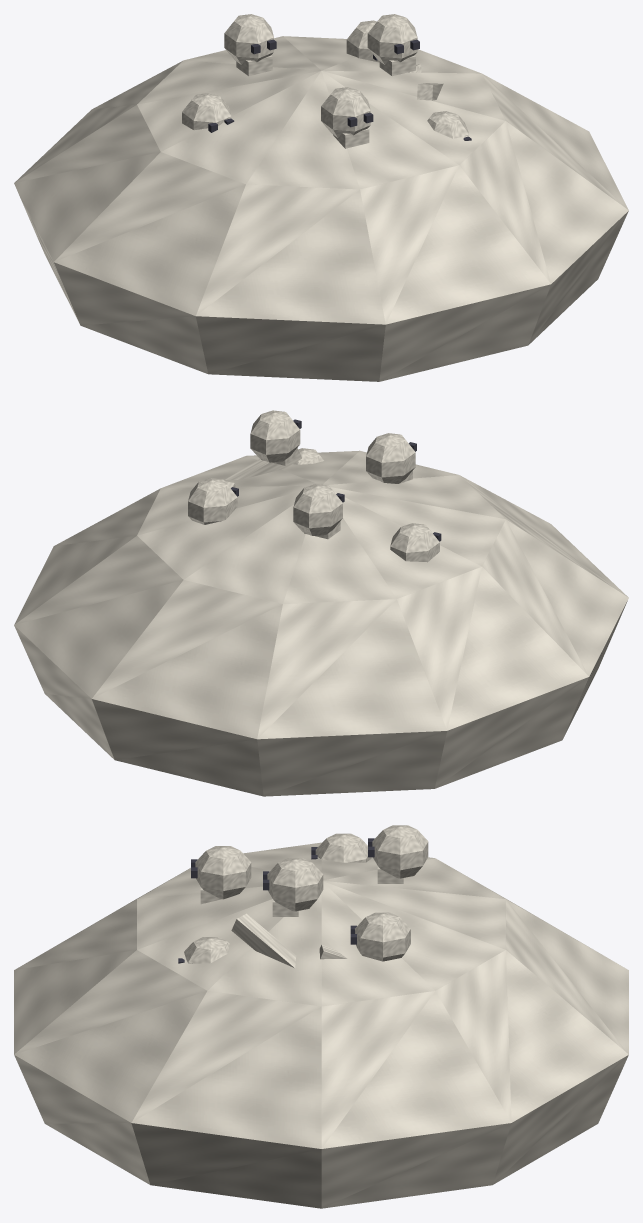
Rendered from vampire-crypt-and-gothic-cathedral-bone-pile-dd09e0df__22985.glb.
3 renders of one model, top to bottom at view 1: azimuth 30°, elevation 25°; view 2: azimuth 150°, elevation 25°; view 3: azimuth 270°, elevation 25°, orthographic. The views are drawn at different scales.
Parts seen in each view (by area): view 1: bone-pile; view 2: bone-pile; view 3: bone-pile.
Part boxes in pixels (bbox=[...]): bone-pile: bbox=[14, 14, 628, 381]; bone-pile: bbox=[14, 410, 628, 796]; bone-pile: bbox=[14, 825, 628, 1208].
Bounding box in the file's own units: 2 × 0.8751 × 1.9.
2 materials, 1 textured.
